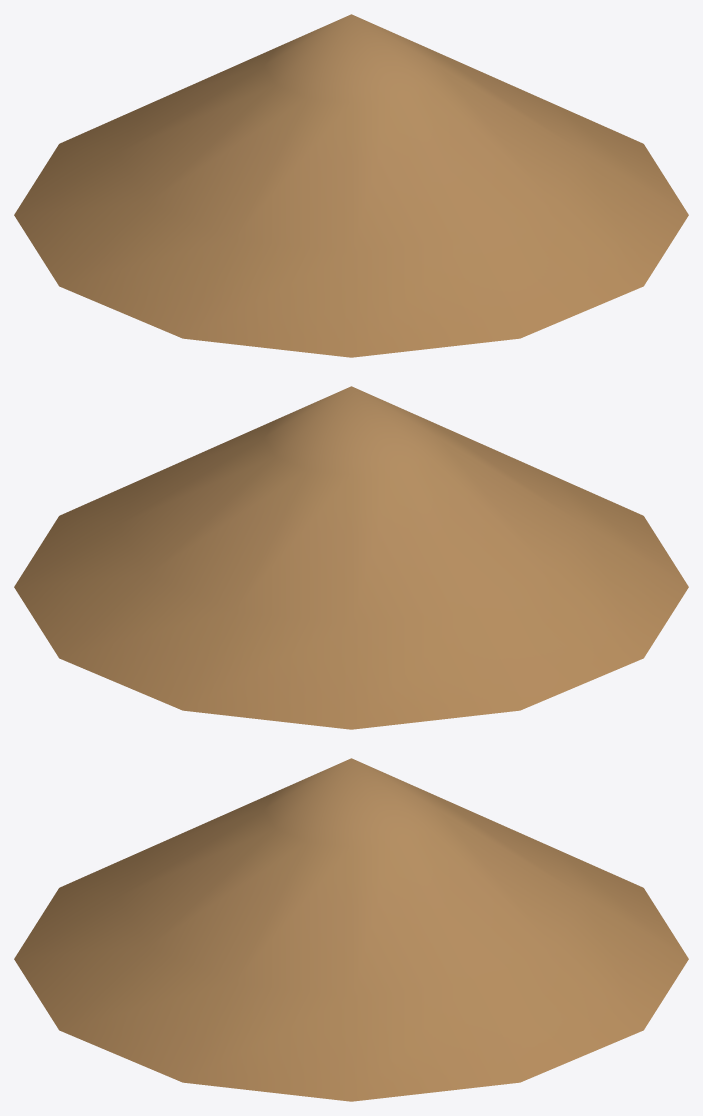
File: cone_hat_1_lvl.fbx
3 renders of one model, top to bottom at view 1: azimuth 30°, elevation 25°; view 2: azimuth 150°, elevation 25°; view 3: azimuth 270°, elevation 25°, orthographic.
Visible parts, largest first — view 1: cone_hat_1_lvl; view 2: cone_hat_1_lvl; view 3: cone_hat_1_lvl.
Part boxes in pixels (x1=…): cone_hat_1_lvl: x1=14, y1=14, x2=688, y2=357; cone_hat_1_lvl: x1=14, y1=386, x2=688, y2=729; cone_hat_1_lvl: x1=14, y1=758, x2=688, y2=1101.
Bounding box in the file's own units: 1.07 × 0.3507 × 1.07.
